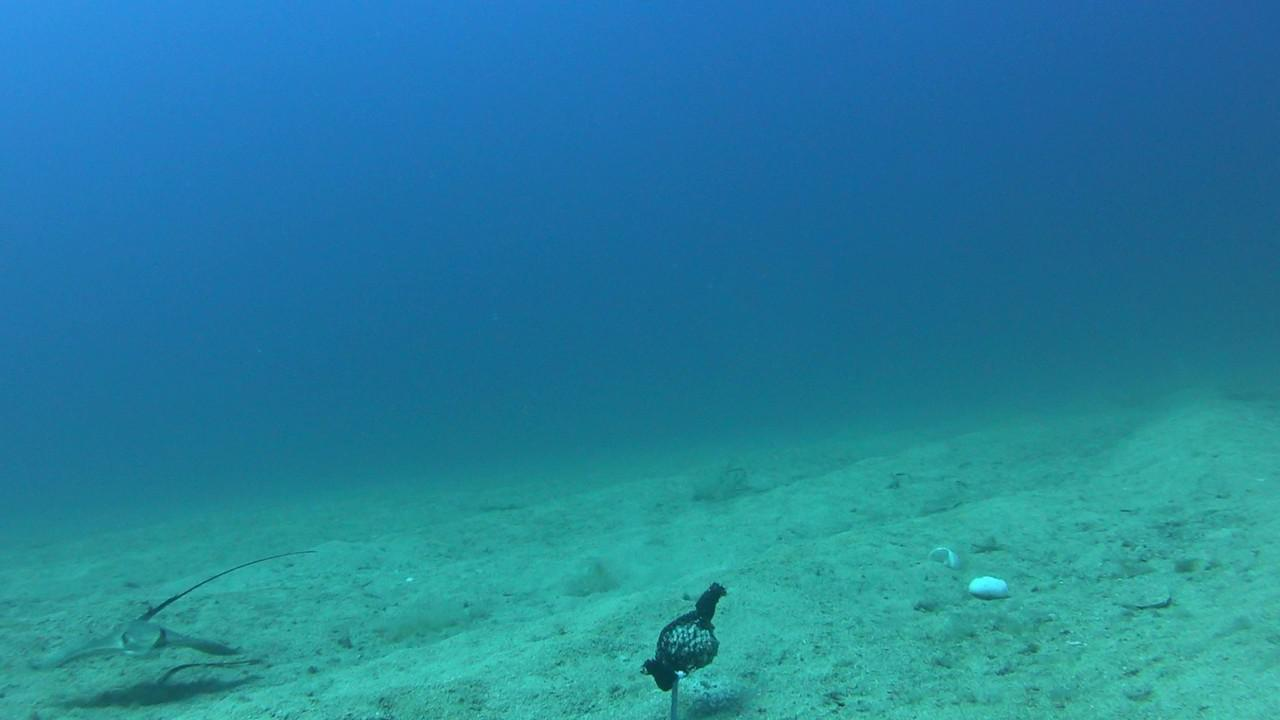myliobatis: (19, 521, 332, 676)
